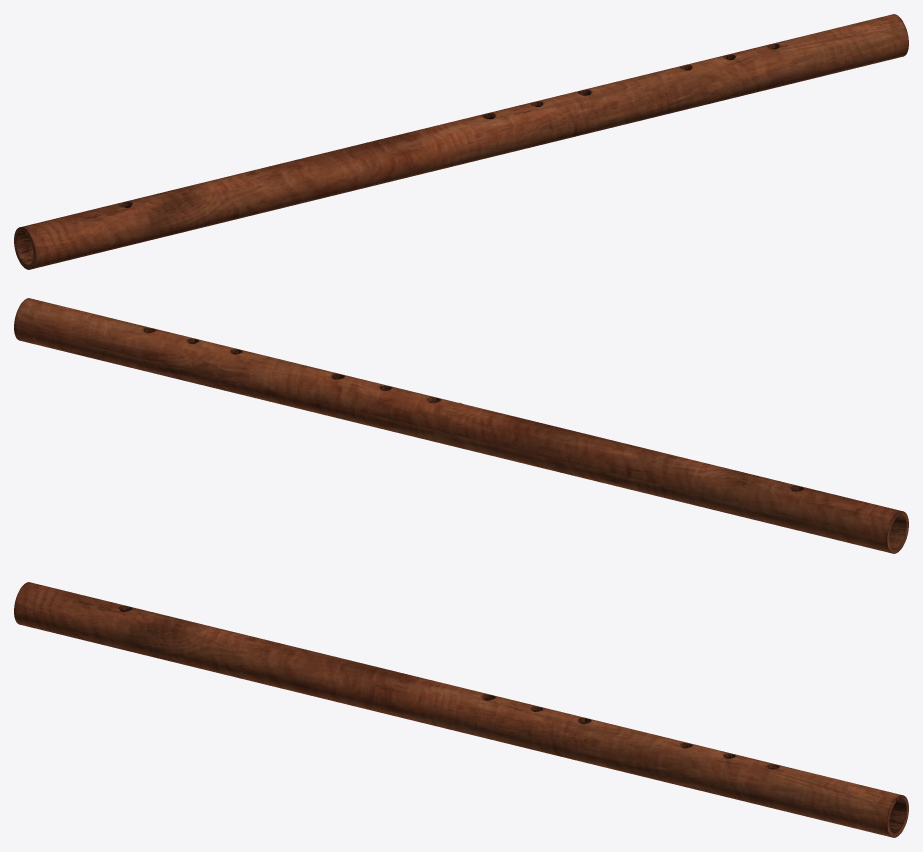
Rendered from flute.glb.
3 views of the same model, one above another, from view 1: azimuth 30°, elevation 25°; view 2: azimuth 150°, elevation 25°; view 3: azimuth 330°, elevation 25° (orthographic).
Visible parts, largest first — view 1: defaultMaterial.001; view 2: defaultMaterial.001; view 3: defaultMaterial.001.
Part boxes in pixels (x1,y1,x2,y2): defaultMaterial.001: (14, 14, 908, 269); defaultMaterial.001: (14, 298, 908, 553); defaultMaterial.001: (14, 582, 908, 837).
Bounding box in the file's own units: 64.6 × 2.96 × 2.8.
Materials: 1 (1 with a texture image).
